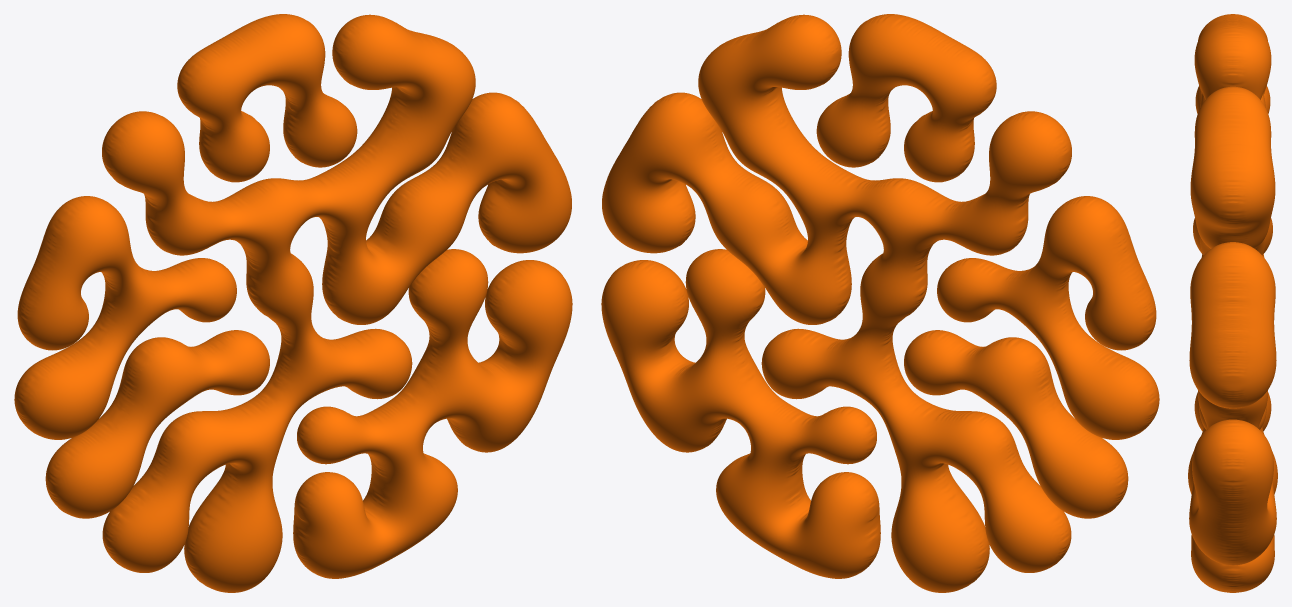
The model's file is neuraz-biomorphic.glb.
The picture shows the model from 3 angles, left to right: view 1: azimuth 30°, elevation 25°; view 2: azimuth 150°, elevation 25°; view 3: azimuth 270°, elevation 25°; orthographic projection. The views are drawn at different scales.
Parts seen in each view (by area): view 1: Approved silhouette 2, Approved silhouette 4, Approved silhouette 3, Approved silhouette 1, Approved silhouette 5; view 2: Approved silhouette 2, Approved silhouette 4, Approved silhouette 3, Approved silhouette 1, Approved silhouette 5; view 3: Approved silhouette 2, Approved silhouette 4, Approved silhouette 1, Approved silhouette 3.
Part boxes in pixels (bbox=[...]): Approved silhouette 2: bbox=[102, 14, 571, 592]; Approved silhouette 4: bbox=[293, 249, 572, 578]; Approved silhouette 3: bbox=[14, 196, 236, 439]; Approved silhouette 1: bbox=[177, 14, 357, 182]; Approved silhouette 5: bbox=[45, 330, 269, 518]; Approved silhouette 2: bbox=[602, 14, 1071, 592]; Approved silhouette 4: bbox=[601, 249, 880, 578]; Approved silhouette 3: bbox=[937, 196, 1159, 439]; Approved silhouette 1: bbox=[816, 14, 996, 182]; Approved silhouette 5: bbox=[904, 330, 1128, 518]; Approved silhouette 2: bbox=[1188, 80, 1277, 494]; Approved silhouette 4: bbox=[1189, 390, 1276, 592]; Approved silhouette 1: bbox=[1194, 14, 1271, 107]; Approved silhouette 3: bbox=[1193, 85, 1272, 253].
Size of the model in its own units: 4.79 by 4.77 by 0.7426.
